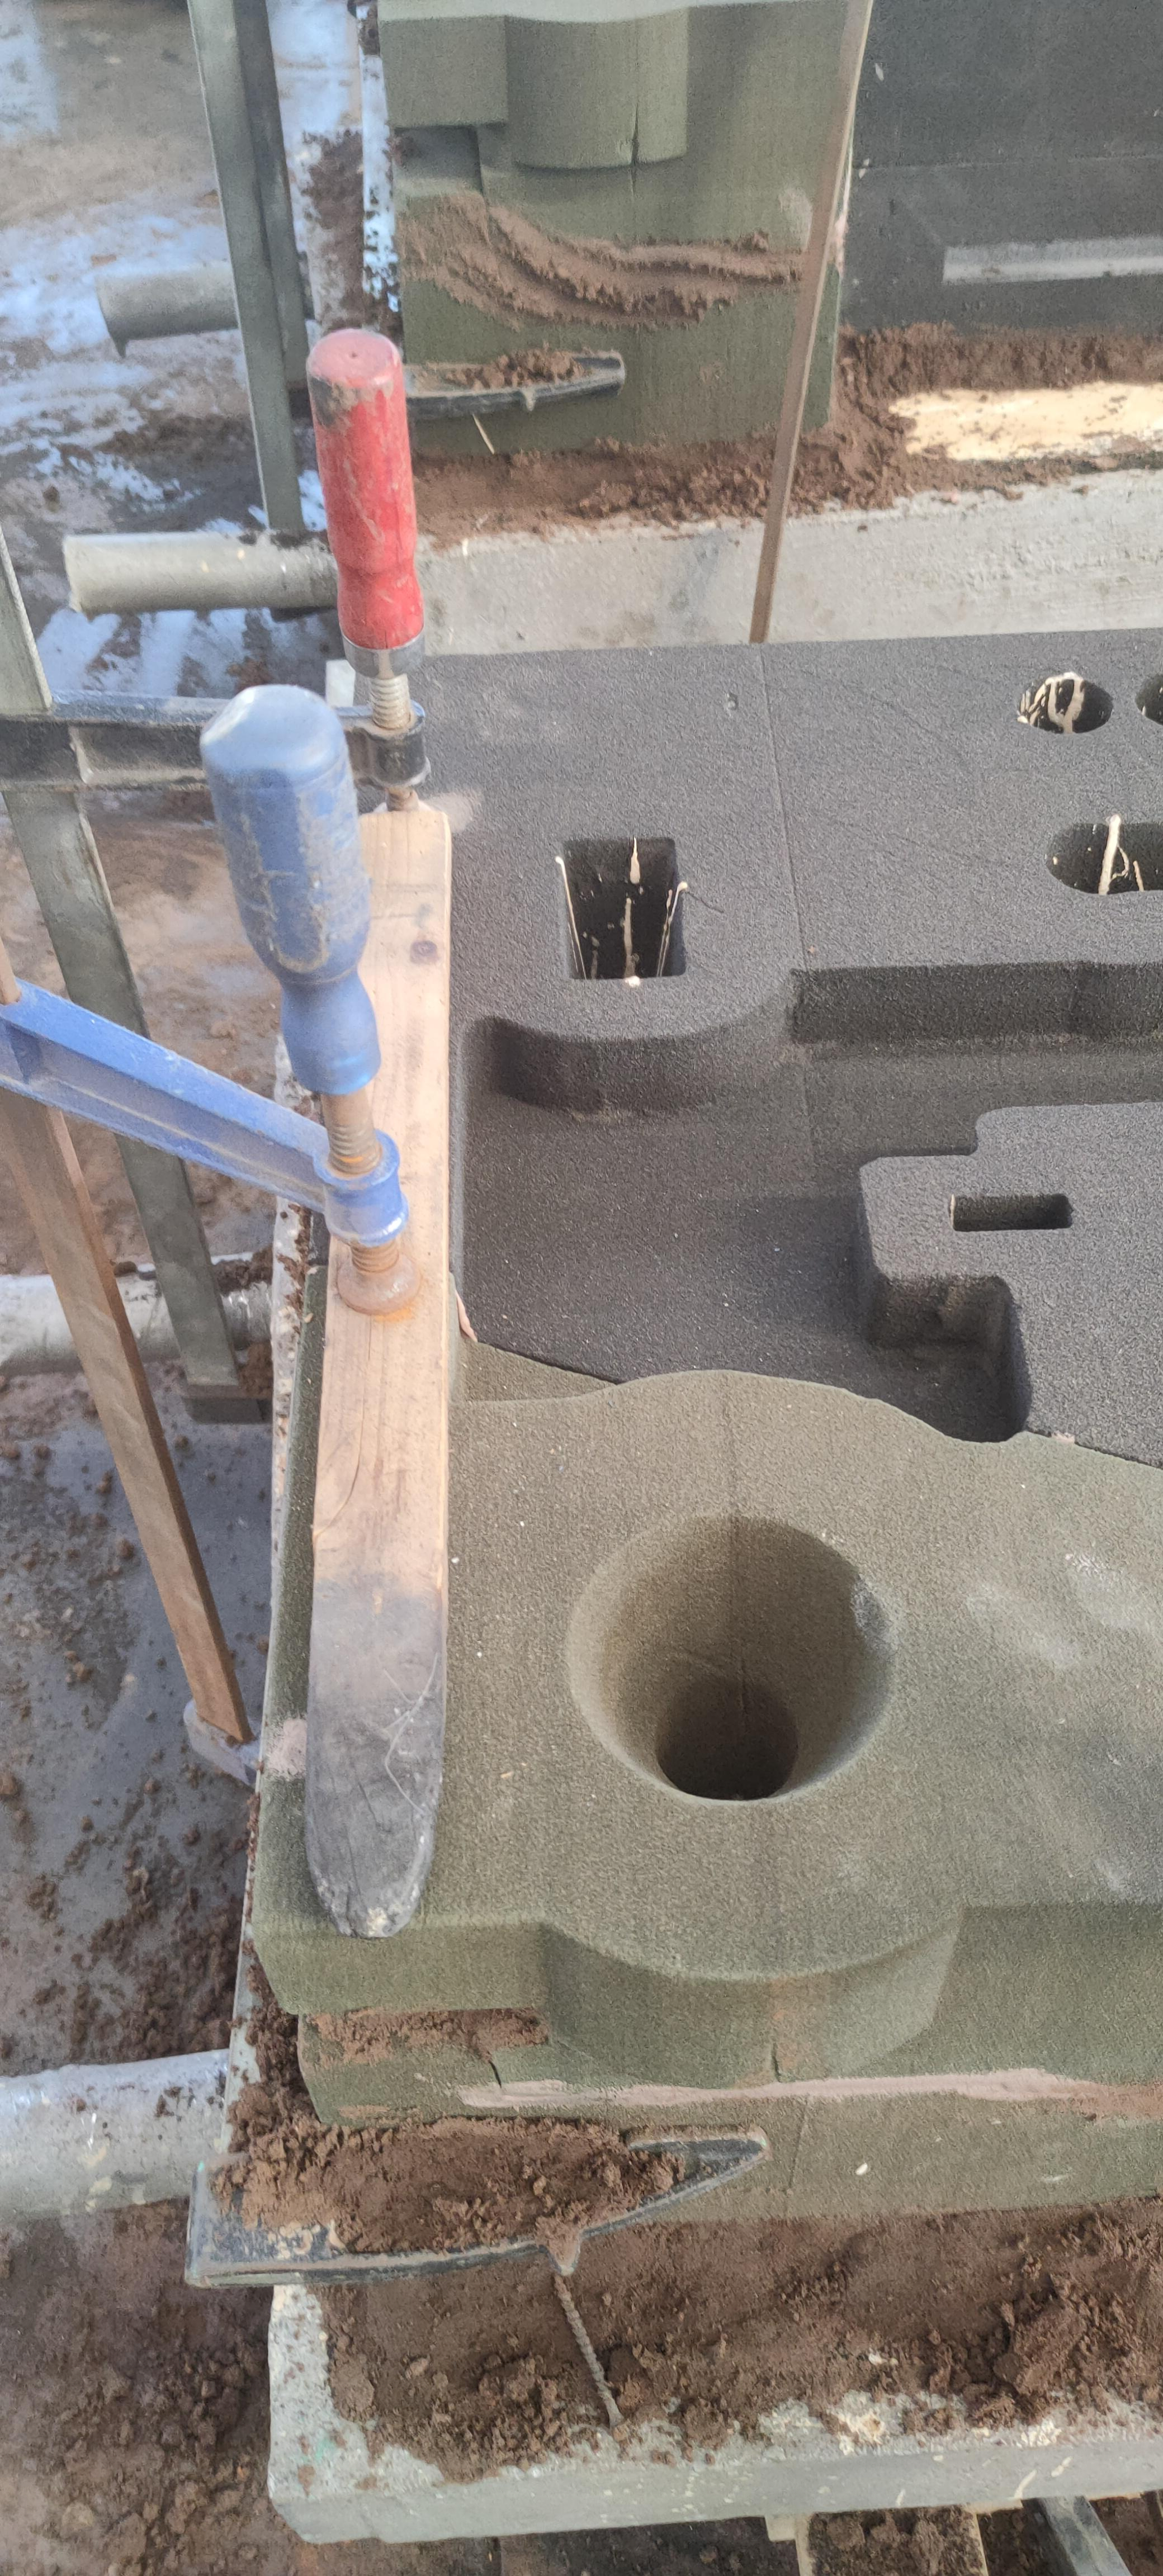pouring hole: (559, 1511, 897, 1805)
